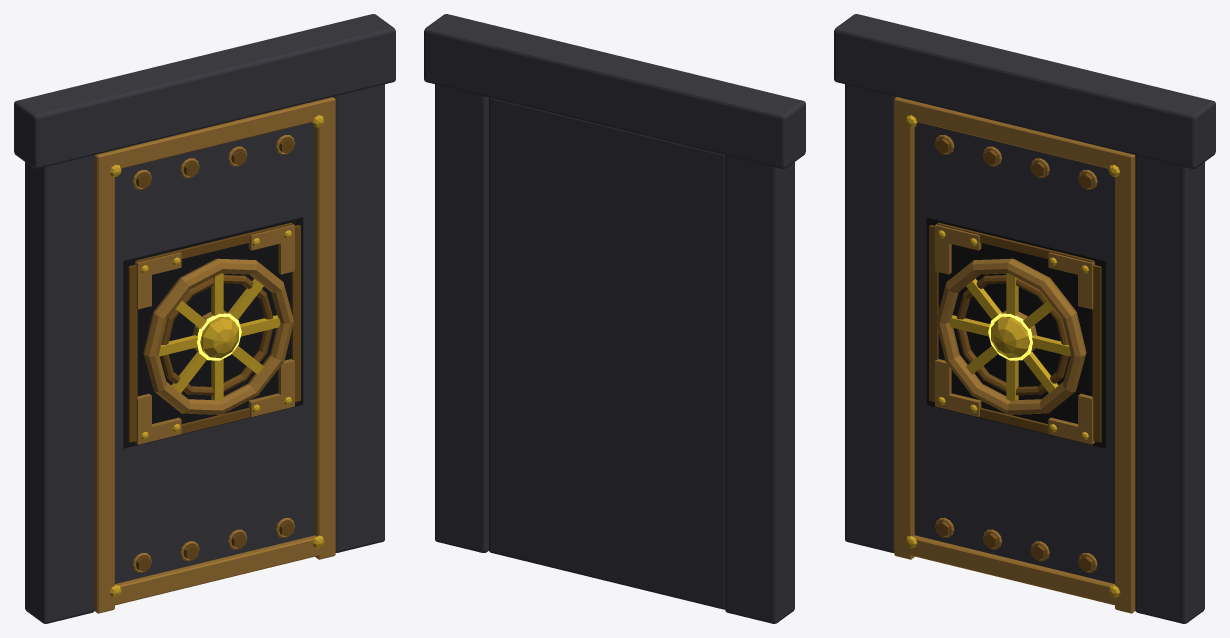
The model's file is SM_Door_DwarvenVault_08.fbx.
3 renders of one model, left to right at view 1: azimuth 30°, elevation 25°; view 2: azimuth 150°, elevation 25°; view 3: azimuth 330°, elevation 25°, orthographic.
Visible parts, largest first — view 1: SM_Door_DwarvenVault_08_Slab, SM_Door_DwarvenVault_08_Frame, SM_Door_DwarvenVault_08_Lintel, SM_Door_DwarvenVault_08_JambR, SM_Door_DwarvenVault_08_Panel, SM_Door_DwarvenVault_08_BorderL, SM_Door_DwarvenVault_08_BorderR, SM_Door_DwarvenVault_08_WheelOuter, SM_Door_DwarvenVault_08_BorderB, SM_Door_DwarvenVault_08_BorderT, SM_Door_DwarvenVault_08_WheelMid, SM_Door_DwarvenVault_08_StepL (+14 smaller); view 2: SM_Door_DwarvenVault_08_Slab, SM_Door_DwarvenVault_08_Frame, SM_Door_DwarvenVault_08_Lintel, SM_Door_DwarvenVault_08_JambR; view 3: SM_Door_DwarvenVault_08_Slab, SM_Door_DwarvenVault_08_JambR, SM_Door_DwarvenVault_08_Lintel, SM_Door_DwarvenVault_08_Frame, SM_Door_DwarvenVault_08_Panel, SM_Door_DwarvenVault_08_BorderL, SM_Door_DwarvenVault_08_BorderR, SM_Door_DwarvenVault_08_WheelOuter, SM_Door_DwarvenVault_08_BorderB, SM_Door_DwarvenVault_08_BorderT, SM_Door_DwarvenVault_08_WheelMid, SM_Door_DwarvenVault_08_StepR (+14 smaller).
Boxes of the visible parts, x1,y1,x2,y2 form: SM_Door_DwarvenVault_08_Slab: [115, 122, 315, 583]; SM_Door_DwarvenVault_08_Frame: [25, 88, 94, 623]; SM_Door_DwarvenVault_08_Lintel: [14, 14, 395, 168]; SM_Door_DwarvenVault_08_JambR: [319, 17, 384, 552]; SM_Door_DwarvenVault_08_Panel: [123, 217, 303, 448]; SM_Door_DwarvenVault_08_BorderL: [94, 151, 114, 613]; SM_Door_DwarvenVault_08_BorderR: [315, 97, 335, 559]; SM_Door_DwarvenVault_08_WheelOuter: [143, 258, 293, 414]; SM_Door_DwarvenVault_08_BorderB: [97, 534, 335, 608]; SM_Door_DwarvenVault_08_BorderT: [94, 99, 335, 173]; SM_Door_DwarvenVault_08_WheelMid: [160, 275, 273, 395]; SM_Door_DwarvenVault_08_StepL: [128, 265, 137, 442]; SM_Door_DwarvenVault_08_Slab: [489, 97, 725, 609]; SM_Door_DwarvenVault_08_Frame: [725, 88, 794, 623]; SM_Door_DwarvenVault_08_Lintel: [424, 14, 805, 168]; SM_Door_DwarvenVault_08_JambR: [435, 17, 500, 552]; SM_Door_DwarvenVault_08_Slab: [914, 122, 1114, 583]; SM_Door_DwarvenVault_08_JambR: [1135, 88, 1204, 623]; SM_Door_DwarvenVault_08_Lintel: [834, 14, 1215, 168]; SM_Door_DwarvenVault_08_Frame: [845, 17, 910, 552]; SM_Door_DwarvenVault_08_Panel: [926, 217, 1106, 448]; SM_Door_DwarvenVault_08_BorderL: [894, 97, 914, 559]; SM_Door_DwarvenVault_08_BorderR: [1115, 151, 1135, 613]; SM_Door_DwarvenVault_08_WheelOuter: [936, 258, 1086, 414]; SM_Door_DwarvenVault_08_BorderB: [894, 534, 1135, 608]; SM_Door_DwarvenVault_08_BorderT: [894, 99, 1135, 173]; SM_Door_DwarvenVault_08_WheelMid: [956, 275, 1069, 395]; SM_Door_DwarvenVault_08_StepR: [1092, 265, 1101, 442].
Bounding box in the file's own units: 1.82 × 2.46 × 0.2822.
